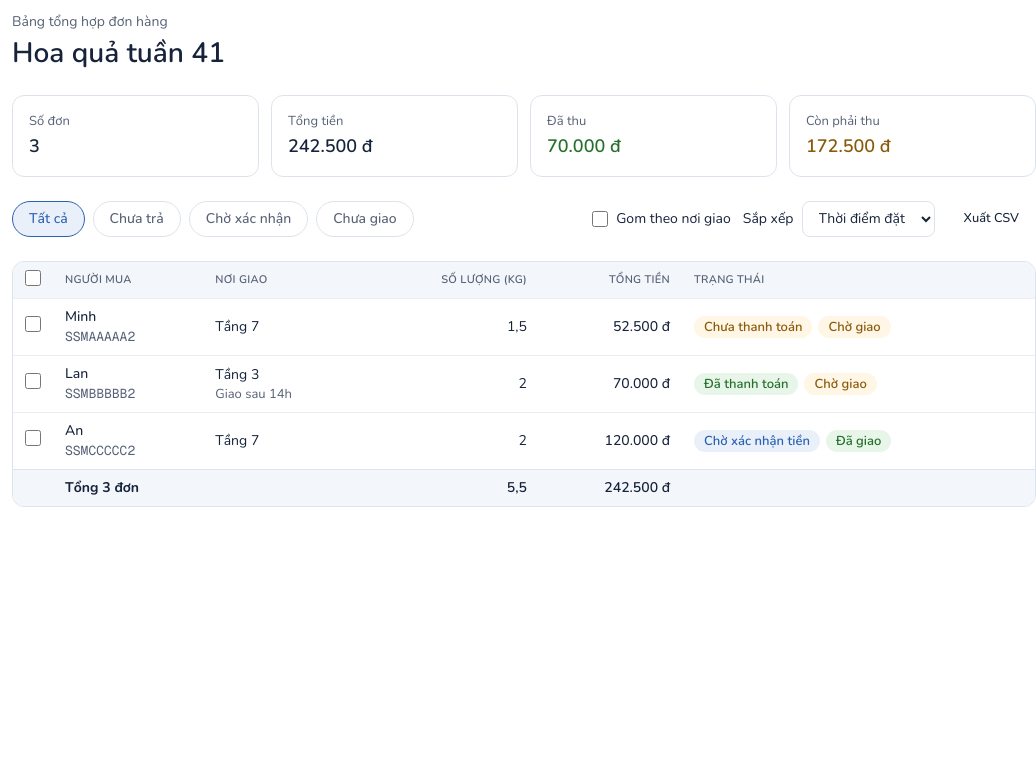
Test: SalesSummary › confirms payment for the selected orders and reports the ones that failed
Expected: the row "Minh SSMAAAAA2 Tầng 7 1,5 52.500 đ Chưa thanh toán Chờ giao" is shown, [13,299,1035,356]
Click the checkbox named "Chọn đơn SSMAAAAA2" at coordinates (33, 324), box [25,316,41,332]
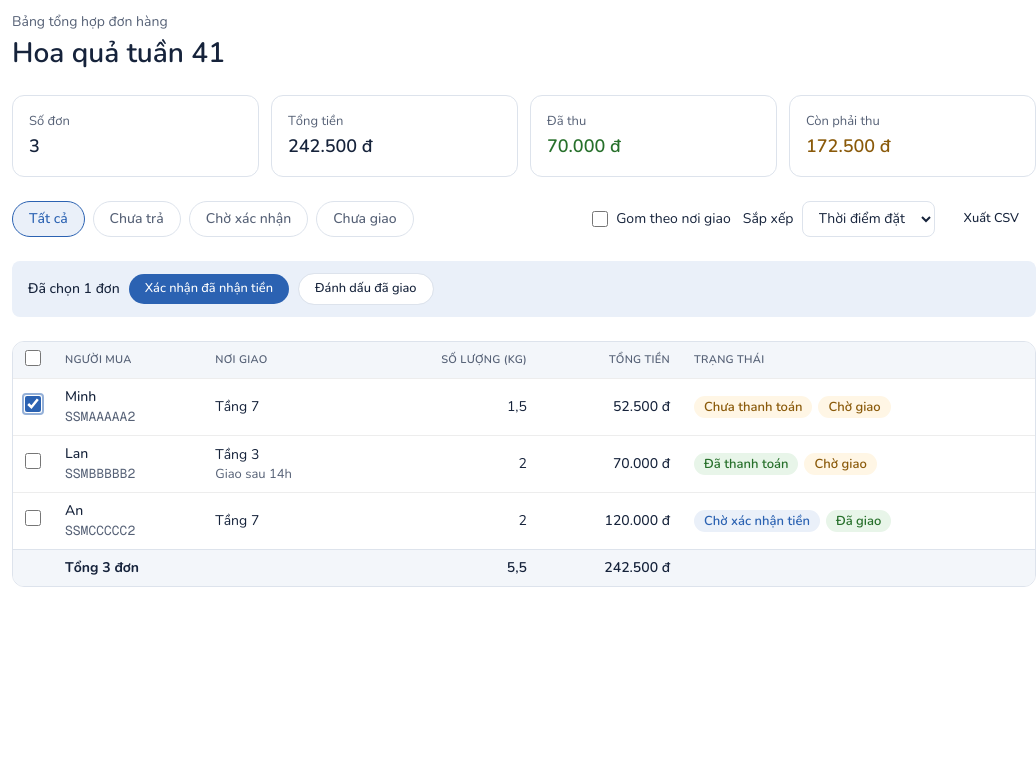
Click the checkbox named "Chọn đơn SSMBBBBB2" at coordinates (33, 461), box [25,453,41,469]
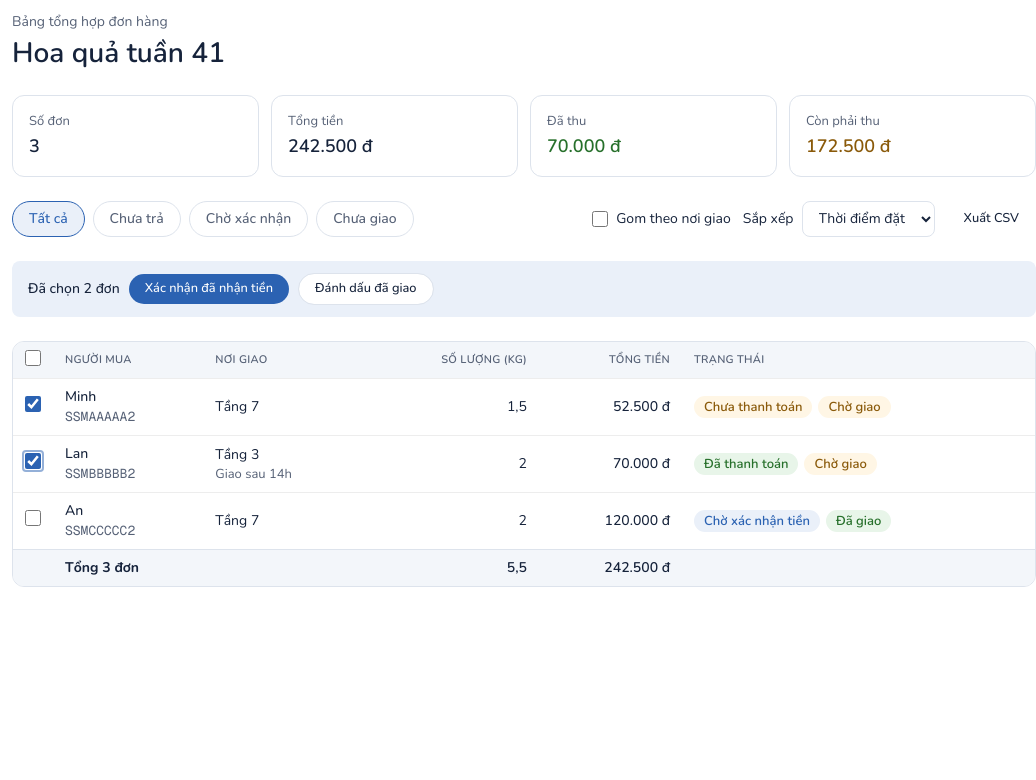
Now the text "Đã chọn 2 đơn" is shown, box [28,278,120,298]
Click the button "Xác nhận đã nhận tiền" at coordinates (209, 288), box [128,272,290,304]
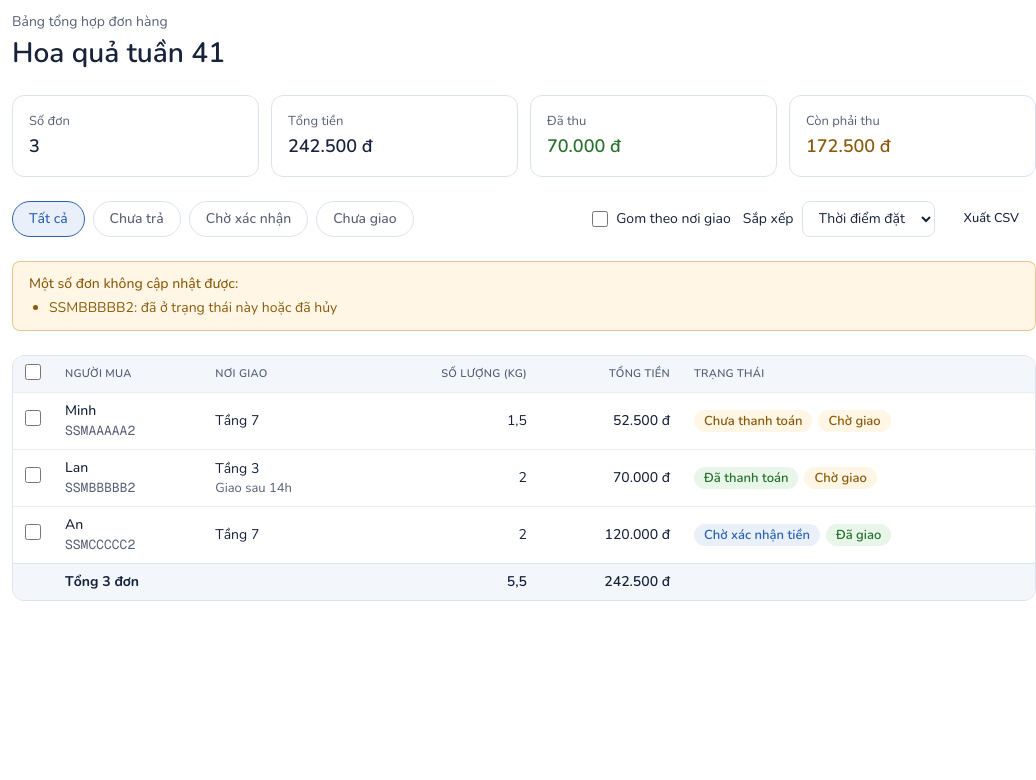
Now the message shows "SSMBBBBB2: đã ở trạng thái này hoặc đã hủy", box [49,298,337,316]
Now the text "Đã chọn" is gone
